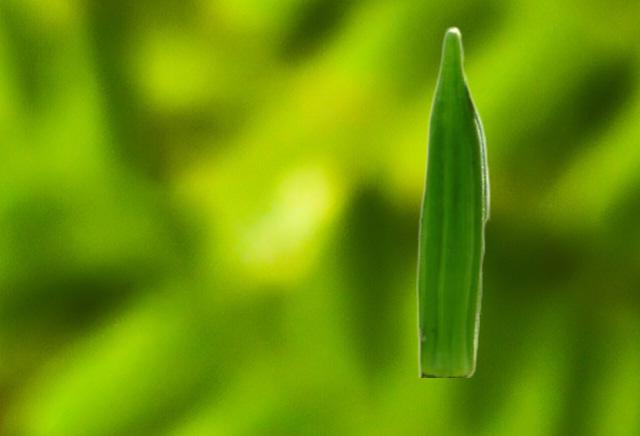okra: (416, 25, 490, 376)
